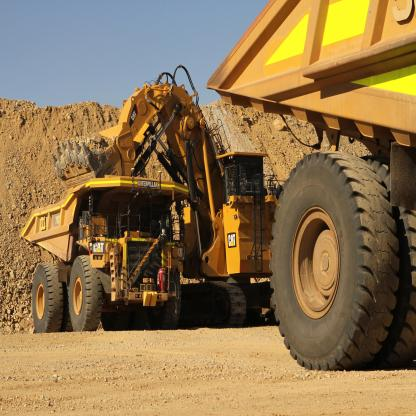dump_truck: (207, 3, 416, 384), (13, 172, 194, 349)
excavator: (43, 57, 302, 338)
